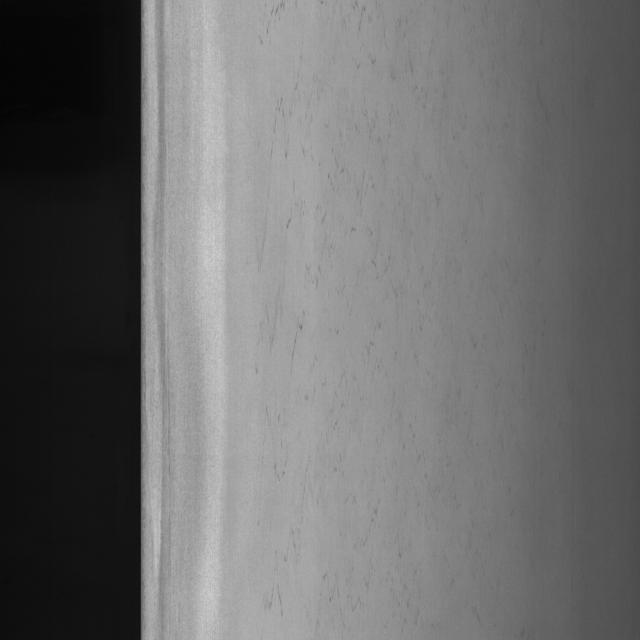inclusion: (244, 15, 450, 593)
